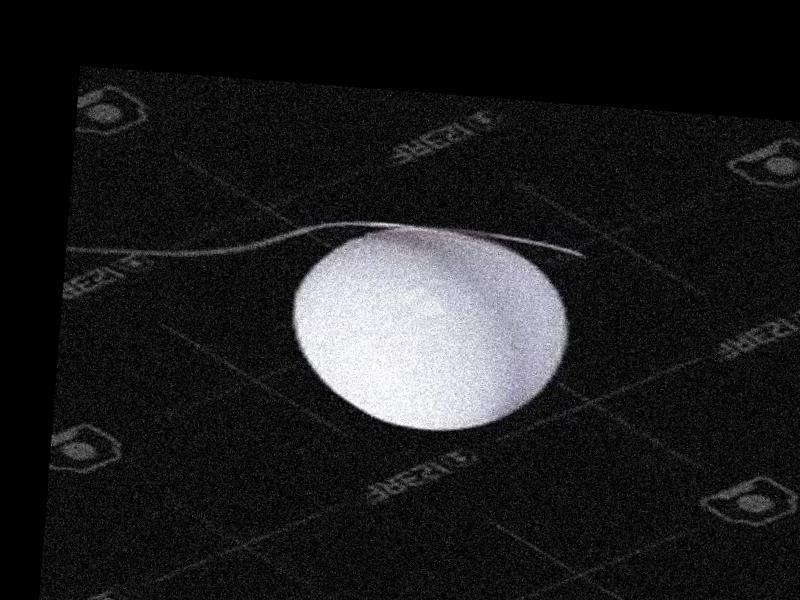Eggs: (285, 218, 575, 437)
